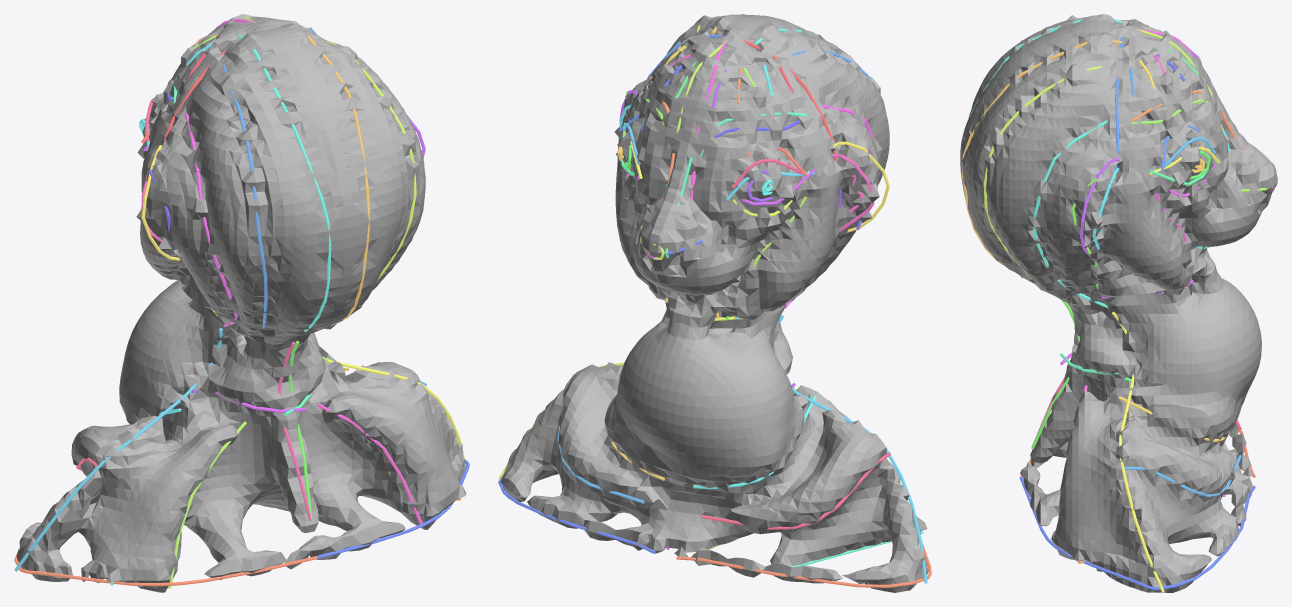
The model's file is author1_bust.gltf.
3 renders of one model, left to right at view 1: azimuth 30°, elevation 25°; view 2: azimuth 150°, elevation 25°; view 3: azimuth 270°, elevation 25°, orthographic. The views are drawn at different scales.
Bounding box in the file's own units: 0.6246 × 0.6851 × 0.4156.
